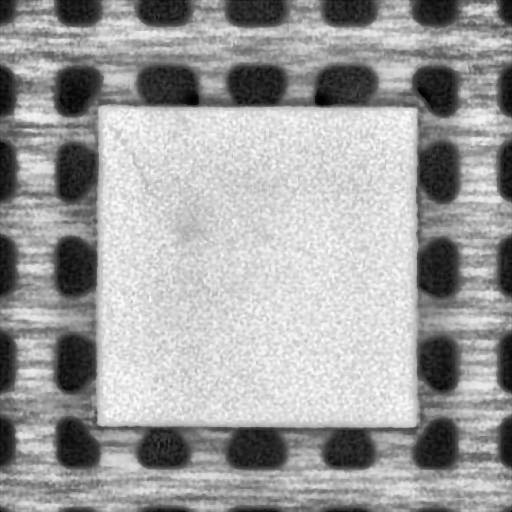DIE_CRACK: (108, 124, 153, 194)
